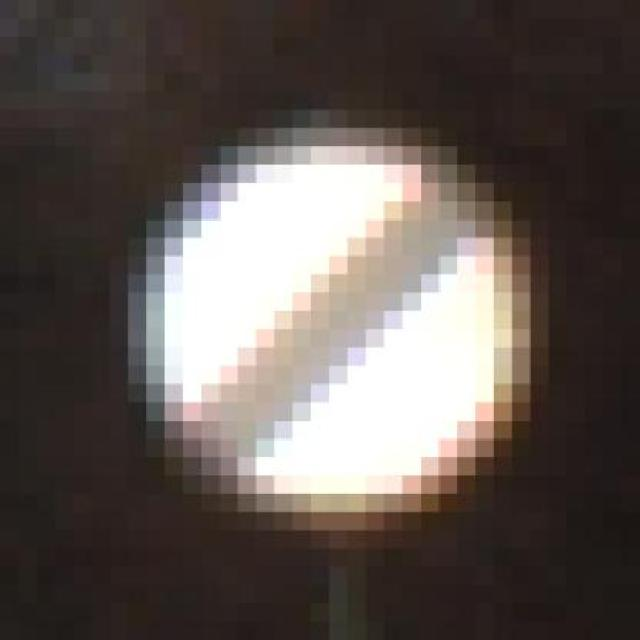End of all speed and passing limits: (146, 91, 549, 567)
